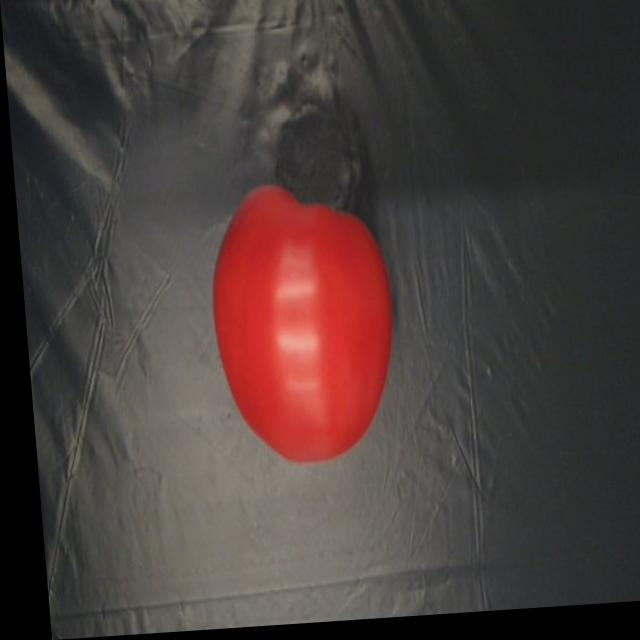kirmizi: (185, 152, 398, 480)
